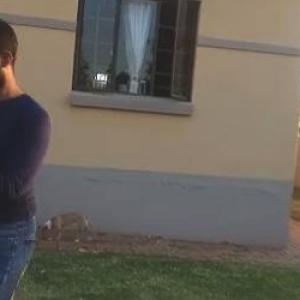follow: (0, 6, 55, 299)
null: (37, 206, 107, 246)
